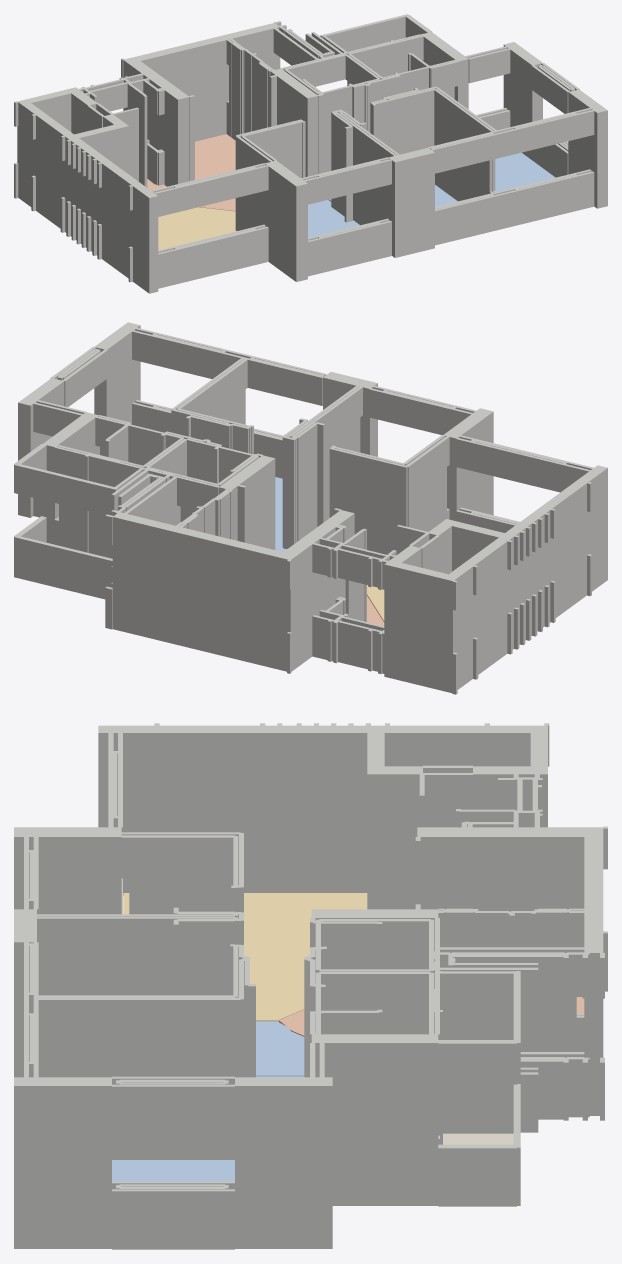
3 views of the same model, one above another, from view 1: azimuth 30°, elevation 25°; view 2: azimuth 150°, elevation 25°; view 3: azimuth 270°, elevation 25° (orthographic). The views are drawn at different scales.
Visible parts, largest first — view 1: walls, room:living:2, room:kitchen:0, room:bedroom:8, room:bedroom:6; view 2: walls, room:bedroom:7; view 3: walls, room:living:2, room:bedroom:8, room:bedroom:6, room:other:10.
Boxes of the visible parts, <box> form: walls: <box>14,14,607,293</box>; room:living:2: <box>158,207,236,250</box>; room:kitchen:0: <box>147,134,235,211</box>; room:bedroom:8: <box>495,152,555,191</box>; room:bedroom:6: <box>308,200,359,237</box>; walls: <box>14,322,607,694</box>; room:bedroom:7: <box>275,477,286,551</box>; walls: <box>14,723,607,1249</box>; room:living:2: <box>123,893,367,1021</box>; room:bedroom:8: <box>112,1160,234,1181</box>; room:bedroom:6: <box>256,1021,304,1076</box>; room:other:10: <box>443,1133,513,1144</box>.
Bounding box in the file's own units: 13.4 × 2.8 × 9.26.
